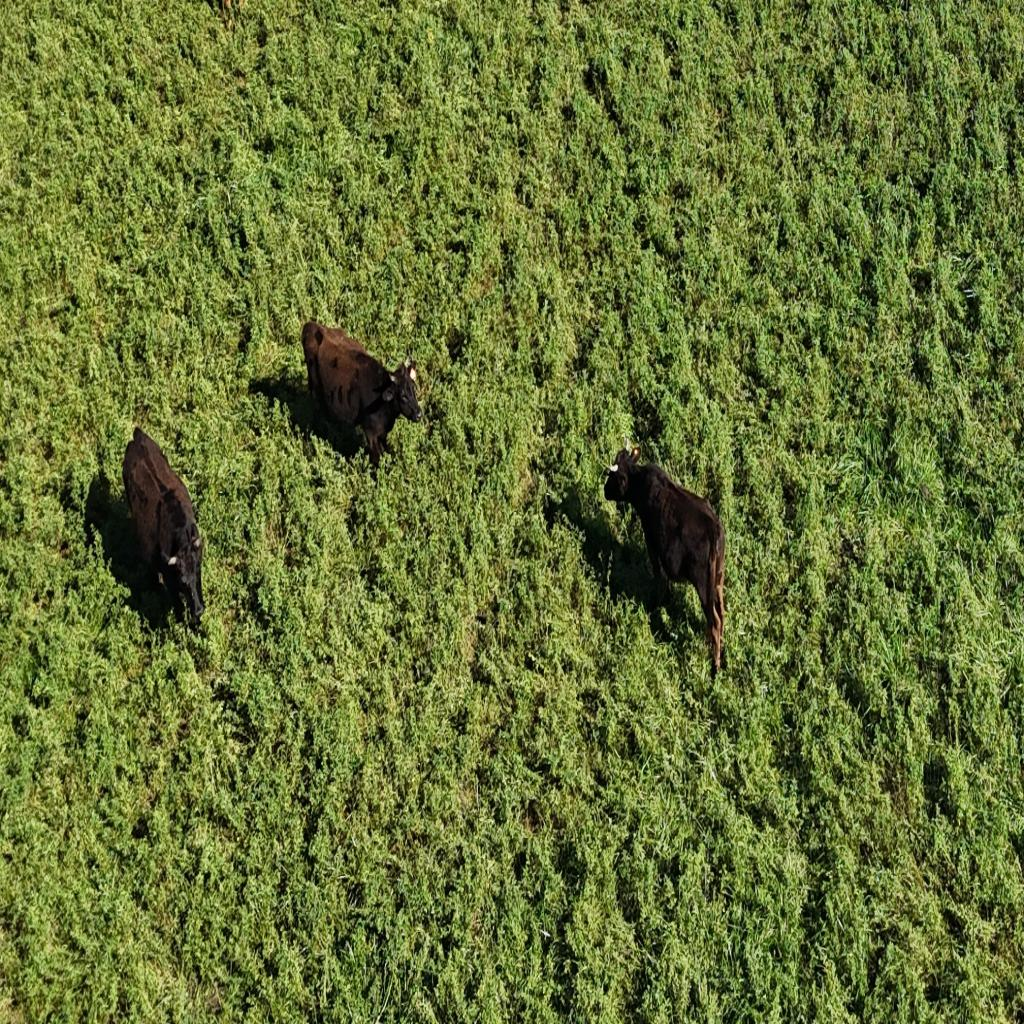cow: (606, 446, 724, 670), (296, 310, 429, 478), (118, 418, 210, 632)
